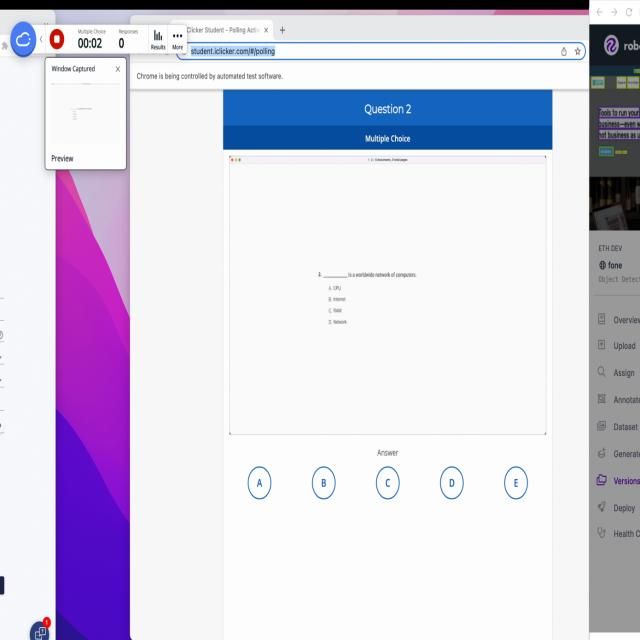button: (308, 464, 339, 502), (373, 468, 404, 501), (500, 466, 531, 499), (438, 466, 467, 501), (246, 464, 273, 500)
